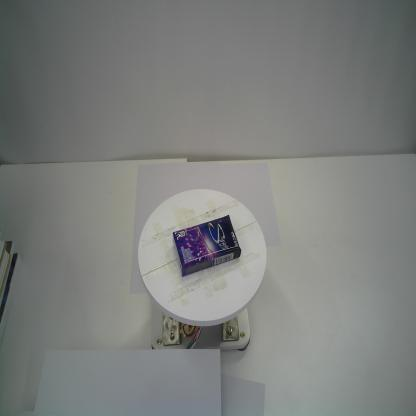Gum: (172, 213, 243, 279)
